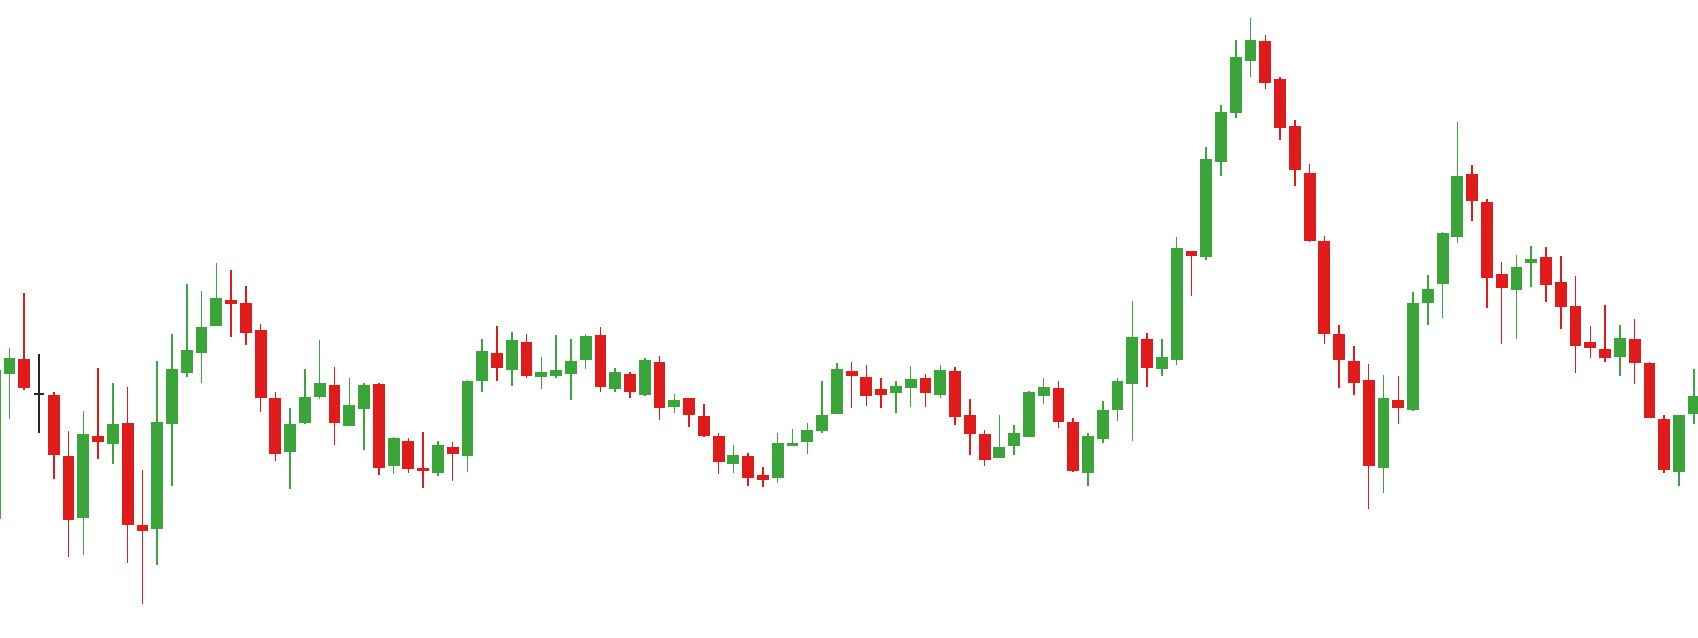buy: (1122, 286, 1392, 507), (64, 444, 164, 601), (979, 415, 1097, 487)
